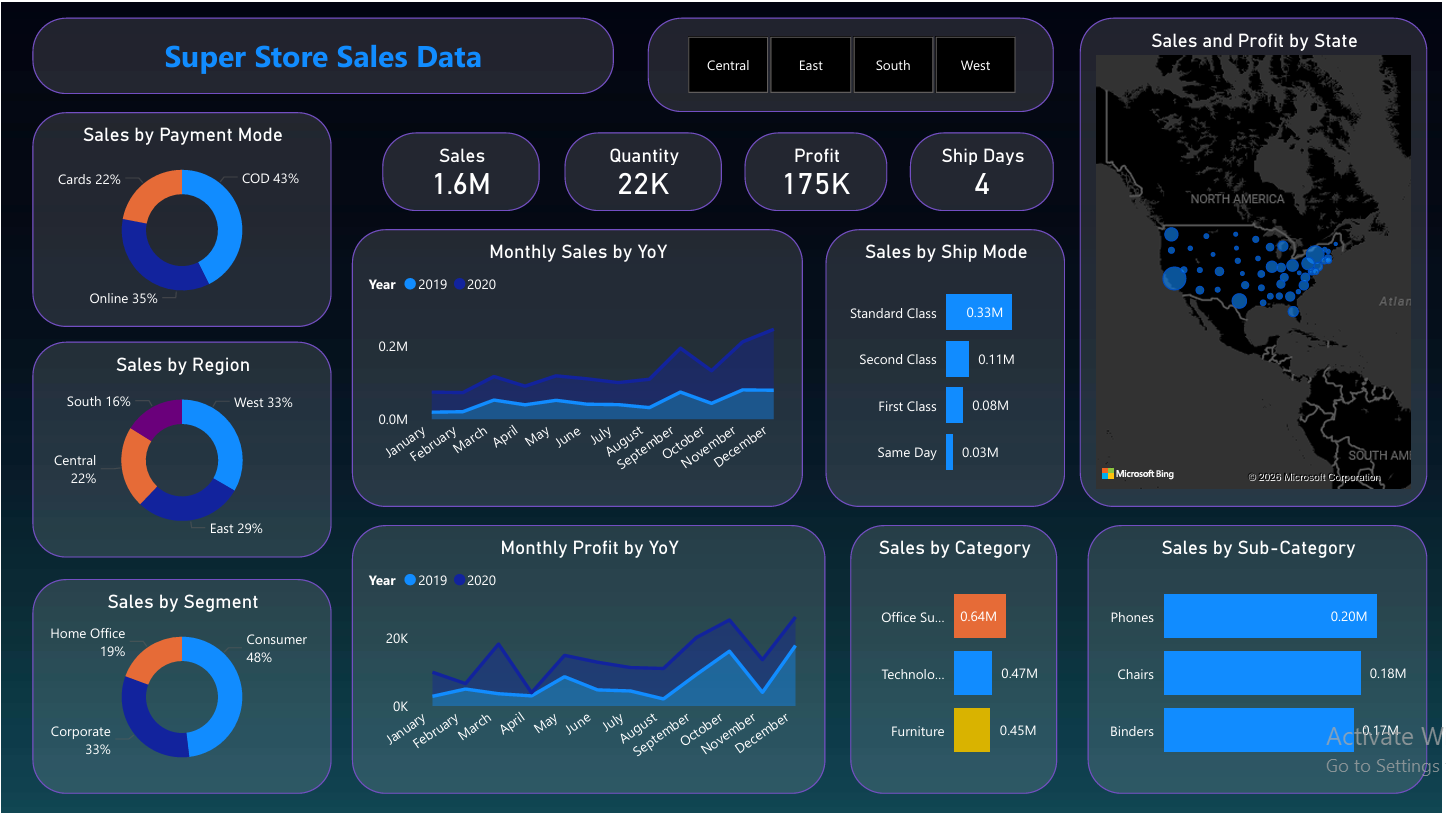

What the dashboard file says about the page in this screenshot:
{"tool":"powerbi","page":{"name":"Page 1","canvas":[1280,720],"ordinal":0},"visuals":[{"type":"barChart","title":"Sales by Category","fields":{"Y":["Sum(SuperStore_Sales_Dataset.Sales)"],"Category":["SuperStore_Sales_Dataset.Category"]},"box":[754.1,463.6,184,239.7],"z":0},{"type":"barChart","title":"Sales by Sub-Category","fields":{"Y":["Sum(SuperStore_Sales_Dataset.Sales)"],"Category":["SuperStore_Sales_Dataset.Sub-Category"]},"box":[964.8,463.6,302.6,239.7],"z":1000},{"type":"barChart","title":"Sales by Ship Mode","fields":{"Y":["Sum(SuperStore_Sales_Dataset.Sales)"],"Category":["SuperStore_Sales_Dataset.Ship Mode","SuperStore_Sales_Dataset.Sub-Category"]},"box":[732.4,200.9,213,246.9],"z":2000},{"type":"stackedAreaChart","title":"Monthly Sales by YoY","fields":{"Y":["Sum(SuperStore_Sales_Dataset.Sales)"],"Category":["SuperStore_Sales_Dataset.Order Date.Variation.Date Hierarchy.Month"],"Series":["SuperStore_Sales_Dataset.Order Date.Variation.Date Hierarchy.Year"]},"box":[311.1,200.9,400.7,246.9],"z":3000},{"type":"stackedAreaChart","title":"Monthly Profit by YoY","fields":{"Category":["SuperStore_Sales_Dataset.Order Date.Variation.Date Hierarchy.Month"],"Series":["SuperStore_Sales_Dataset.Order Date.Variation.Date Hierarchy.Year"],"Y":["Sum(SuperStore_Sales_Dataset.Profit)"]},"box":[311.1,463.6,421.3,239.7],"z":4000},{"type":"map","title":"Sales and Profit by State","fields":{"Category":["SuperStore_Sales_Dataset.State"],"Size":["Sum(SuperStore_Sales_Dataset.Sales)"]},"box":[957.5,13.3,309.9,434.6],"z":5000},{"type":"donutChart","title":"Sales by Segment","fields":{"Category":["SuperStore_Sales_Dataset.Segment"],"Y":["Sum(SuperStore_Sales_Dataset.Sales)"]},"box":[26.6,512,266.3,191.3],"z":6000},{"type":"donutChart","title":"Sales by Payment Mode","fields":{"Category":["SuperStore_Sales_Dataset.Payment Mode"],"Y":["Sum(SuperStore_Sales_Dataset.Sales)"]},"box":[26.6,96.8,266.3,191.3],"z":7000},{"type":"slicer","fields":{"Values":["SuperStore_Sales_Dataset.Region"]},"box":[573.8,13.3,360.7,83.5],"z":8000},{"type":"textbox","box":[26.6,13.3,516.9,67.8],"z":9000},{"type":"card","title":"Sales","fields":{"Values":["Sum(SuperStore_Sales_Dataset.Sales)"]},"box":[337.7,115,140.4,70.2],"z":10000},{"type":"card","title":"Quantity","fields":{"Values":["Sum(SuperStore_Sales_Dataset.Quantity)"]},"box":[499.9,115,140.4,70.2],"z":11000},{"type":"card","title":"Profit","fields":{"Values":["Sum(SuperStore_Sales_Dataset.Profit)"]},"box":[659.7,115,127.1,70.2],"z":12000},{"type":"card","title":"Ship Days","fields":{"Values":["Avg(SuperStore_Sales_Dataset.AvgDelivery)"]},"box":[807.4,115,127.1,70.2],"z":13000},{"type":"donutChart","title":"Sales by Region","fields":{"Category":["SuperStore_Sales_Dataset.Region"],"Y":["Sum(SuperStore_Sales_Dataset.Sales)"]},"box":[26.6,301.4,266.3,191.3],"z":13001}]}

Visuals, with their boxes in screenshot pixels (x1, y1, x2, y2), scaled from the page's 1280x720 canvas onto the 1446x815 screenshot:
"Sales by Category" barChart: 852, 525, 1060, 796
"Sales by Sub-Category" barChart: 1090, 525, 1432, 796
"Sales by Ship Mode" barChart: 827, 227, 1068, 507
"Monthly Sales by YoY" stackedAreaChart: 351, 227, 804, 507
"Monthly Profit by YoY" stackedAreaChart: 351, 525, 827, 796
"Sales and Profit by State" map: 1082, 15, 1432, 507
"Sales by Segment" donutChart: 30, 580, 331, 796
"Sales by Payment Mode" donutChart: 30, 110, 331, 326
slicer - SuperStore_Sales_Dataset.Region: 648, 15, 1056, 110
textbox: 30, 15, 614, 92
"Sales" card: 381, 130, 540, 210
"Quantity" card: 565, 130, 723, 210
"Profit" card: 745, 130, 889, 210
"Ship Days" card: 912, 130, 1056, 210
"Sales by Region" donutChart: 30, 341, 331, 558
